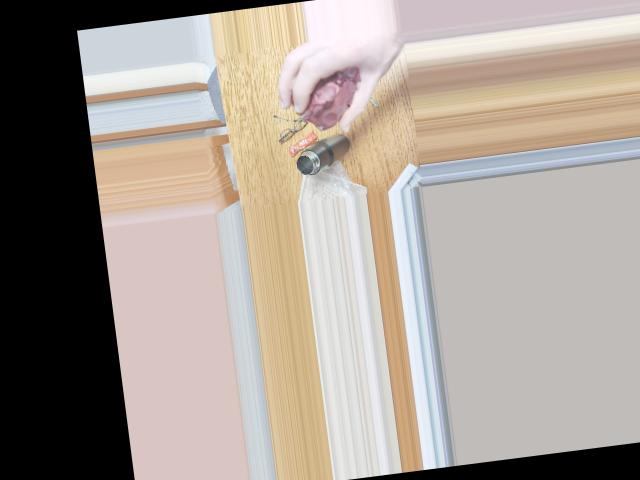onion: (287, 64, 359, 128)
